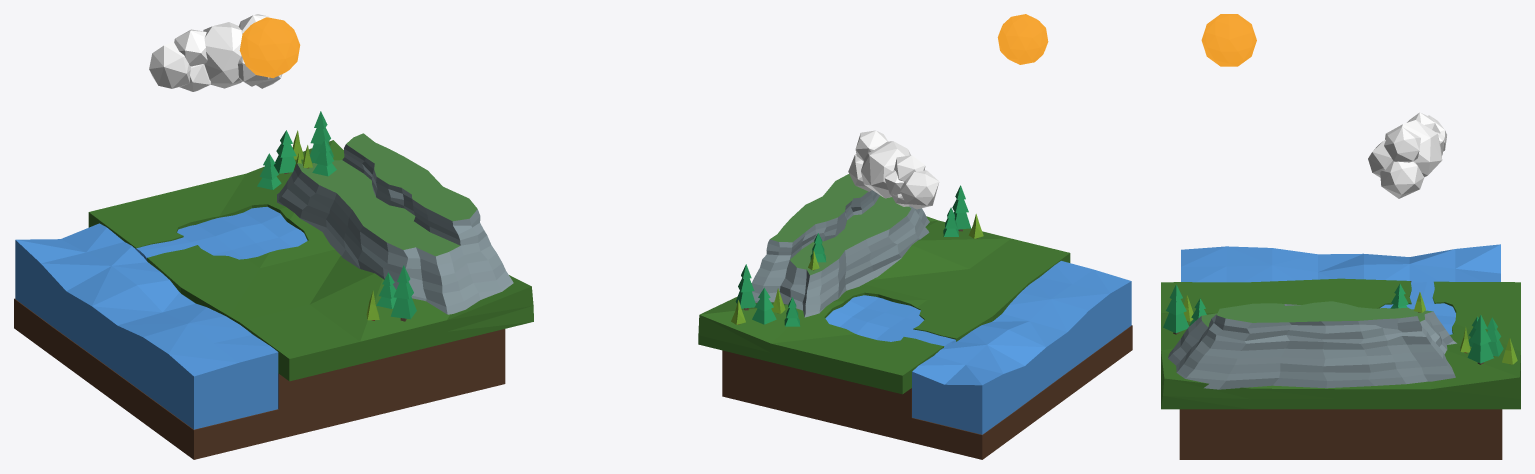
Rendered from water_cycle_model.glb.
3 views of the same model, side by side, from view 1: azimuth 30°, elevation 25°; view 2: azimuth 150°, elevation 25°; view 3: azimuth 270°, elevation 25° (orthographic). The views are drawn at different scales.
Parts seen in each view (by area): view 1: Base, Sea, Mountain, Cloud, Lake, Sun, Cube.009, Cube.005; view 2: Base, Sea, Mountain, Cloud, Lake, Sun, Cube.006, Cube.005, Cube.009; view 3: Base, Mountain, Sea, Cloud, Sun, Lake, Cube.006, Cube.009, Cube.005.
Part boxes in pixels (x1,y1,x2,y2): Base: (14,140,533,459); Sea: (15,223,278,429); Mountain: (277,133,513,314); Cloud: (149,14,282,91); Lake: (135,206,307,261); Sun: (239,17,300,78); Cube.009: (390,265,416,321); Cube.005: (274,130,296,173); Base: (698,216,1132,459); Sea: (912,261,1131,434); Mountain: (751,174,929,317); Cloud: (848,130,939,209); Lake: (825,295,956,347); Sun: (997,14,1048,64); Cube.006: (735,264,755,310); Cube.005: (752,287,776,324); Cube.009: (952,185,970,231); Base: (1161,278,1520,459); Mountain: (1168,301,1456,389); Sea: (1181,244,1500,282); Cloud: (1368,112,1446,198); Sun: (1201,14,1256,66); Lake: (1380,282,1455,334); Cube.006: (1467,315,1493,364); Cube.009: (1163,284,1188,334); Cube.005: (1486,317,1503,356).
Size of the model in its own units: 9.7 by 7.27 by 6.7.
